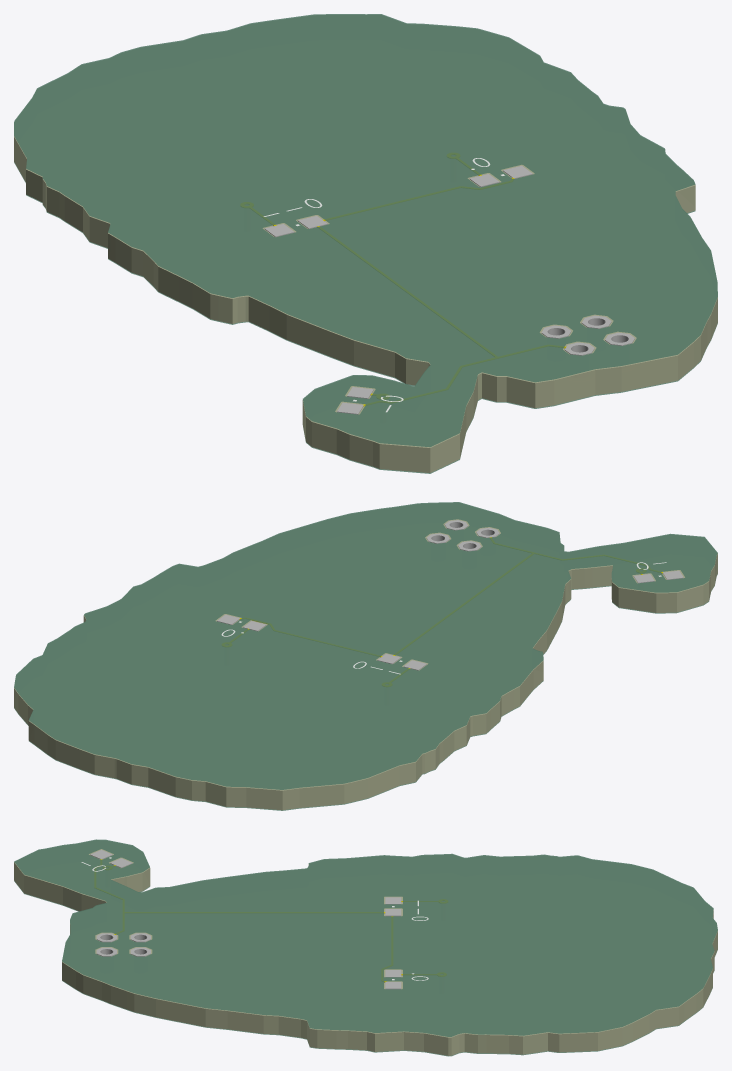
File: jr-bob-dobbs-sao.glb
The picture shows the model from 3 angles, top to bottom: view 1: azimuth 30°, elevation 25°; view 2: azimuth 150°, elevation 25°; view 3: azimuth 270°, elevation 25°; orthographic projection. The views are drawn at different scales.
Visible parts, largest first — view 1: =>[0:1:1:9], =>[0:1:1:7], =>[0:1:1:2]; view 2: =>[0:1:1:9], =>[0:1:1:7], =>[0:1:1:2]; view 3: =>[0:1:1:9], =>[0:1:1:7], =>[0:1:1:2].
Part boxes in pixels (box(x1,y1,x2,y2)): =>[0:1:1:9]: box(14, 15, 717, 472); =>[0:1:1:7]: box(14, 14, 717, 473); =>[0:1:1:2]: box(241, 153, 634, 414); =>[0:1:1:9]: box(14, 503, 717, 810); =>[0:1:1:7]: box(14, 502, 717, 810); =>[0:1:1:2]: box(217, 520, 683, 686); =>[0:1:1:9]: box(14, 840, 717, 1055); =>[0:1:1:7]: box(14, 839, 717, 1056); =>[0:1:1:2]: box(90, 850, 447, 989).
Size of the model in its own units: 0.035 by 0.00166 by 0.0527.
Materials: 4 (4 with a texture image).
